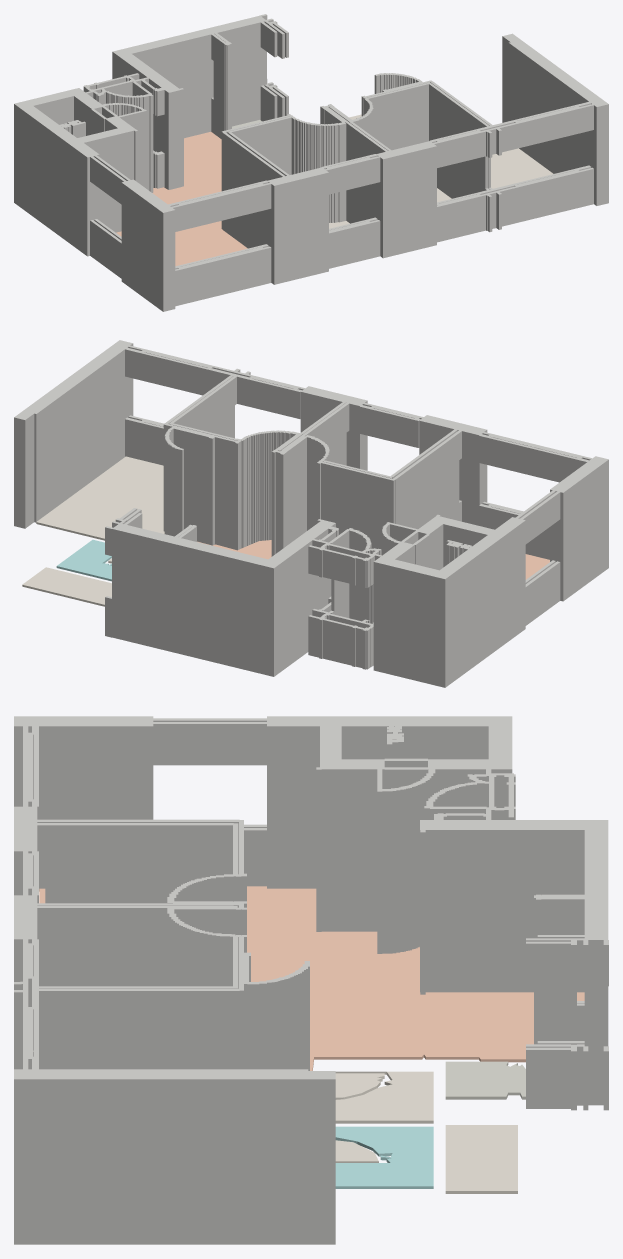
The picture shows the model from 3 angles, top to bottom: view 1: azimuth 30°, elevation 25°; view 2: azimuth 150°, elevation 25°; view 3: azimuth 270°, elevation 25°; orthographic projection. The views are drawn at different scales.
Parts seen in each view (by area): view 1: walls, room:kitchen:0, room:other:11; view 2: walls, room:other:11, room:other:4, room:bath:3, room:kitchen:0; view 3: walls, room:kitchen:0, room:bath:3, room:other:4, room:other:7, room:yard:1, room:other:9, room:other:10.
Boxes of the visible parts, x1,y1,x2,y2 form: walls: (14,14,608,311); room:kitchen:0: (116,132,247,266); room:other:11: (491,148,553,188); walls: (14,340,608,687); room:other:11: (36,456,164,540); room:other:4: (22,567,111,606); room:bath:3: (56,539,111,581); room:kitchen:0: (197,540,549,579); walls: (14,716,608,1244); room:kitchen:0: (39,886,584,1070); room:bath:3: (335,1126,433,1188); room:other:4: (445,1125,517,1193); room:other:7: (335,1071,433,1123); room:yard:1: (445,1061,525,1099); room:other:9: (335,1073,384,1099); room:other:10: (335,1140,378,1162).
Bounding box in the file's own units: 13.19 × 2.8 × 9.14.
